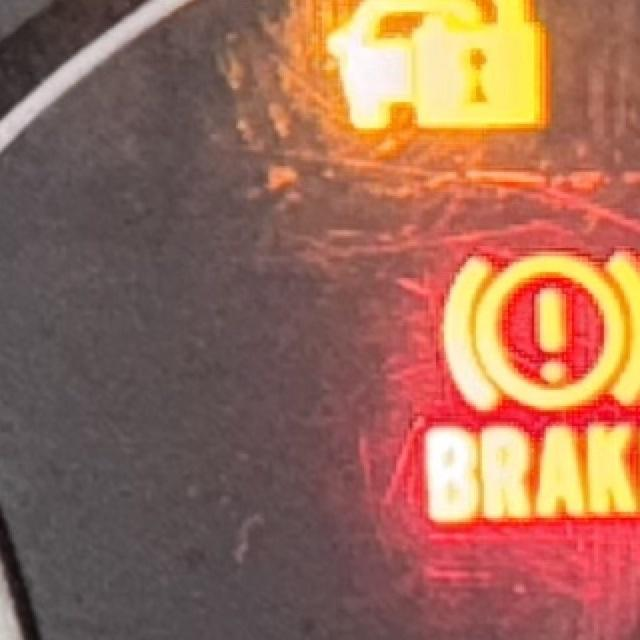Break System Issue: (422, 247, 640, 528)
Car SecurityWarning: (323, 1, 554, 135)
